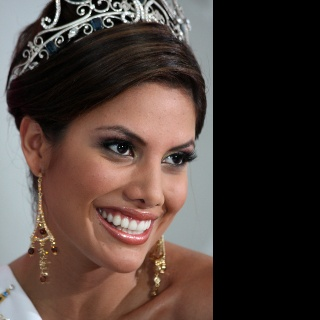without_mask: (21, 79, 196, 275)
